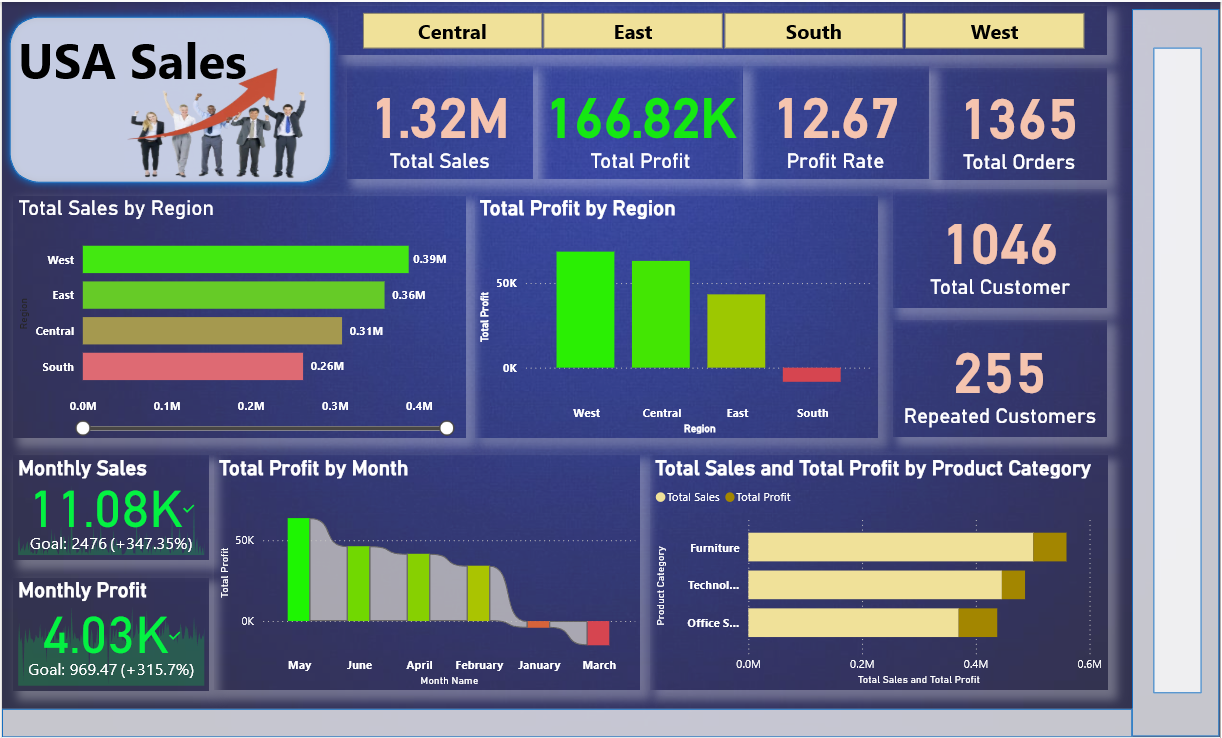

What the dashboard file says about the page in this screenshot:
{"tool":"powerbi","page":{"name":"Dashboard","canvas":[1280,772],"ordinal":0},"visuals":[{"type":"shape","box":[0,6.9,353.4,190.3],"z":0,"group":"g1"},{"type":"shape","box":[1186.4,7.5,92.8,764.5],"z":0},{"type":"card","fields":{"Values":["Measuree.Total Sales"]},"box":[361.3,67.1,195,118.3],"z":1000,"group":"g1"},{"type":"shape","box":[-0.1,742.4,1186.7,30],"z":1000},{"type":"shape","box":[1208.8,47.9,50.9,677.7],"z":2000},{"type":"card","fields":{"Values":["Measuree.Total Profit"]},"box":[562.5,66.4,215.7,118.6],"z":2000,"group":"g1"},{"type":"group","id":"g1","title":"Group 1","box":[0,6.9,1160.1,714.9],"z":3000},{"type":"card","fields":{"Values":["Measure.Total Orders"]},"box":[974.9,68.1,184.6,117.7],"z":3000,"group":"g1"},{"type":"slicer","fields":{"Values":["Orders.Region"]},"box":[353.4,4.3,806.9,51.5],"z":4000},{"type":"card","fields":{"Values":["Measure.Total Customer"]},"box":[934.3,195.8,225.5,125.4],"z":4000,"group":"g1"},{"type":"image","box":[115.2,56.9,225.9,146.6],"z":5000},{"type":"clusteredBarChart","fields":{"Category":["Orders.Region"],"Y":["Measure.Total Sales"]},"box":[11.8,203,475,255],"z":5000,"group":"g1"},{"type":"clusteredColumnChart","fields":{"Y":["Measure.Total Profit"],"Category":["Orders.Region"]},"box":[496.8,203,423.3,255],"z":6000,"group":"g1"},{"type":"kpi","title":"Monthly Profit","fields":{"Goal":["Measure.Previous Month Profit"],"Indicator":["Measure.Total Profit"],"TrendLine":["Orders.Order Date"]},"box":[11.8,603.2,205.7,118.6],"z":7000,"group":"g1"},{"type":"kpi","title":"Monthly Sales","fields":{"TrendLine":["Orders.Order Date"],"Indicator":["Measure.Total Sales"],"Goal":["Measure.Previous Month Sales"]},"box":[11.8,474.7,205.7,110],"z":8000,"group":"g1"},{"type":"ribbonChart","title":"Total Profit by Month","fields":{"Y":["Measure.Total Profit"],"Category":["Orders.Month Name"]},"box":[223.2,474.7,447.1,247.1],"z":9000,"group":"g1"},{"type":"card","fields":{"Values":["Measure.Repeated Customers"]},"box":[934.3,333.2,225.5,122.7],"z":10000,"group":"g1"},{"type":"barChart","fields":{"Category":["Orders.Product Category"],"Y":["Measure.Total Sales","Measure.Total Profit"]},"box":[680.1,474.7,480,246.7],"z":11000,"group":"g1"},{"type":"card","fields":{"Values":["Measure.Profit rate"]},"box":[776.9,66.4,197.5,118.7],"z":12000,"group":"g1"}]}

Visuals, with their boxes in screenshot pixels (x1, y1, x2, y2), scaled from the page's 1280x772 canvas onto the 1222x738 screenshot:
shape: 0 7 337 189
shape: 1133 7 1221 737
card - Measuree.Total Sales: 345 64 531 177
shape: 0 710 1133 737
shape: 1154 46 1203 694
card - Measuree.Total Profit: 537 63 743 177
"Group 1" group: 0 7 1108 690
card - Measure.Total Orders: 931 65 1107 178
slicer - Orders.Region: 337 4 1108 53
card - Measure.Total Customer: 892 187 1107 307
image: 110 54 326 195
clusteredBarChart - Orders.Region x Measure.Total Sales: 11 194 465 438
clusteredColumnChart - Measure.Total Profit x Orders.Region: 474 194 878 438
"Monthly Profit" kpi: 11 577 208 690
"Monthly Sales" kpi: 11 454 208 559
"Total Profit by Month" ribbonChart: 213 454 640 690
card - Measure.Repeated Customers: 892 319 1107 436
barChart - Orders.Product Category x Measure.Total Sales: 649 454 1108 690
card - Measure.Profit rate: 742 63 930 177
